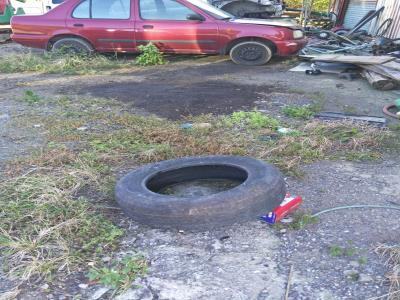tire: (112, 153, 289, 233)
